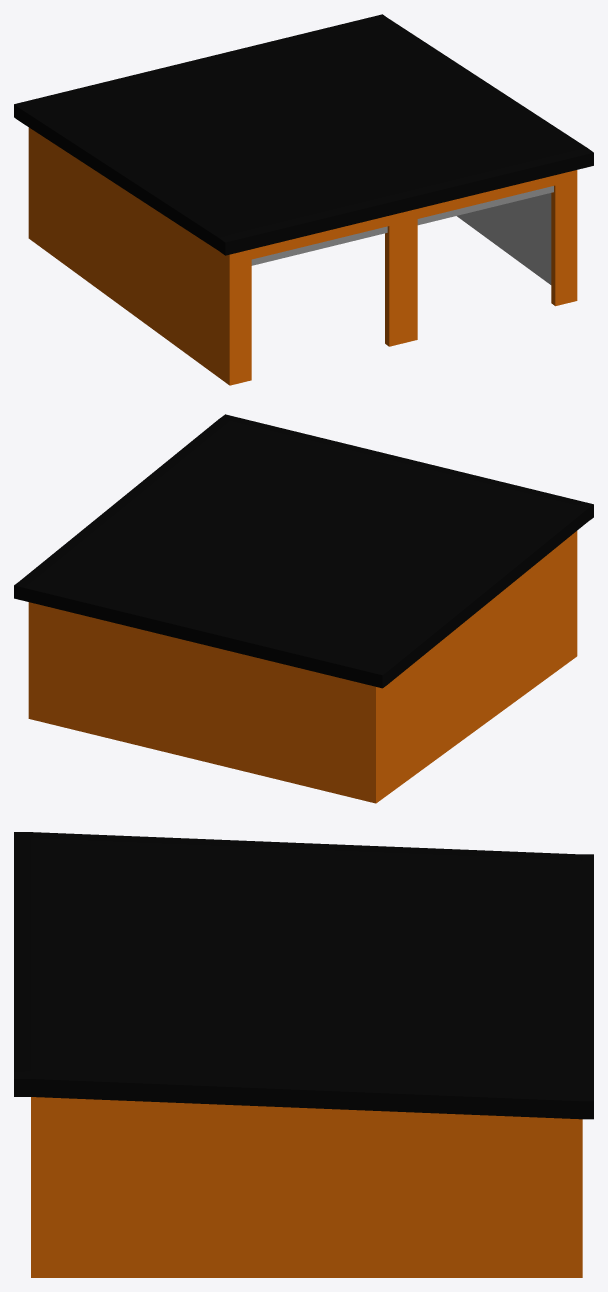
The model's file is garage.fbx.
3 renders of one model, top to bottom at view 1: azimuth 30°, elevation 25°; view 2: azimuth 150°, elevation 25°; view 3: azimuth 270°, elevation 25°, orthographic. The views are drawn at different scales.
Visible parts, largest first — view 1: Cube; view 2: Cube; view 3: Cube.
Part boxes in pixels (x1,y1,x2,y2): Cube: (14, 14, 593, 385); Cube: (14, 414, 593, 803); Cube: (14, 832, 593, 1277).
Bounding box in the file's own units: 520 × 203 × 516.
